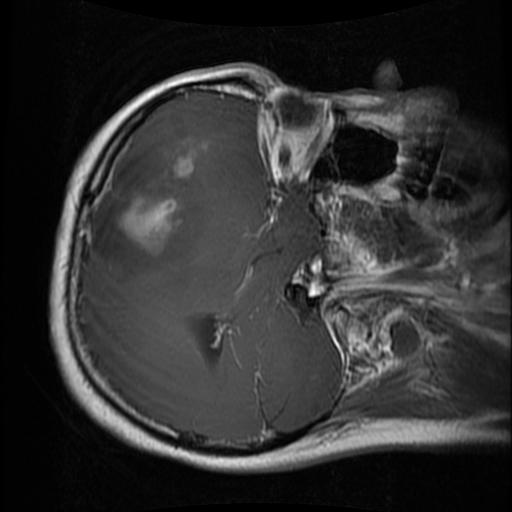glioma: (91, 140, 210, 283)
